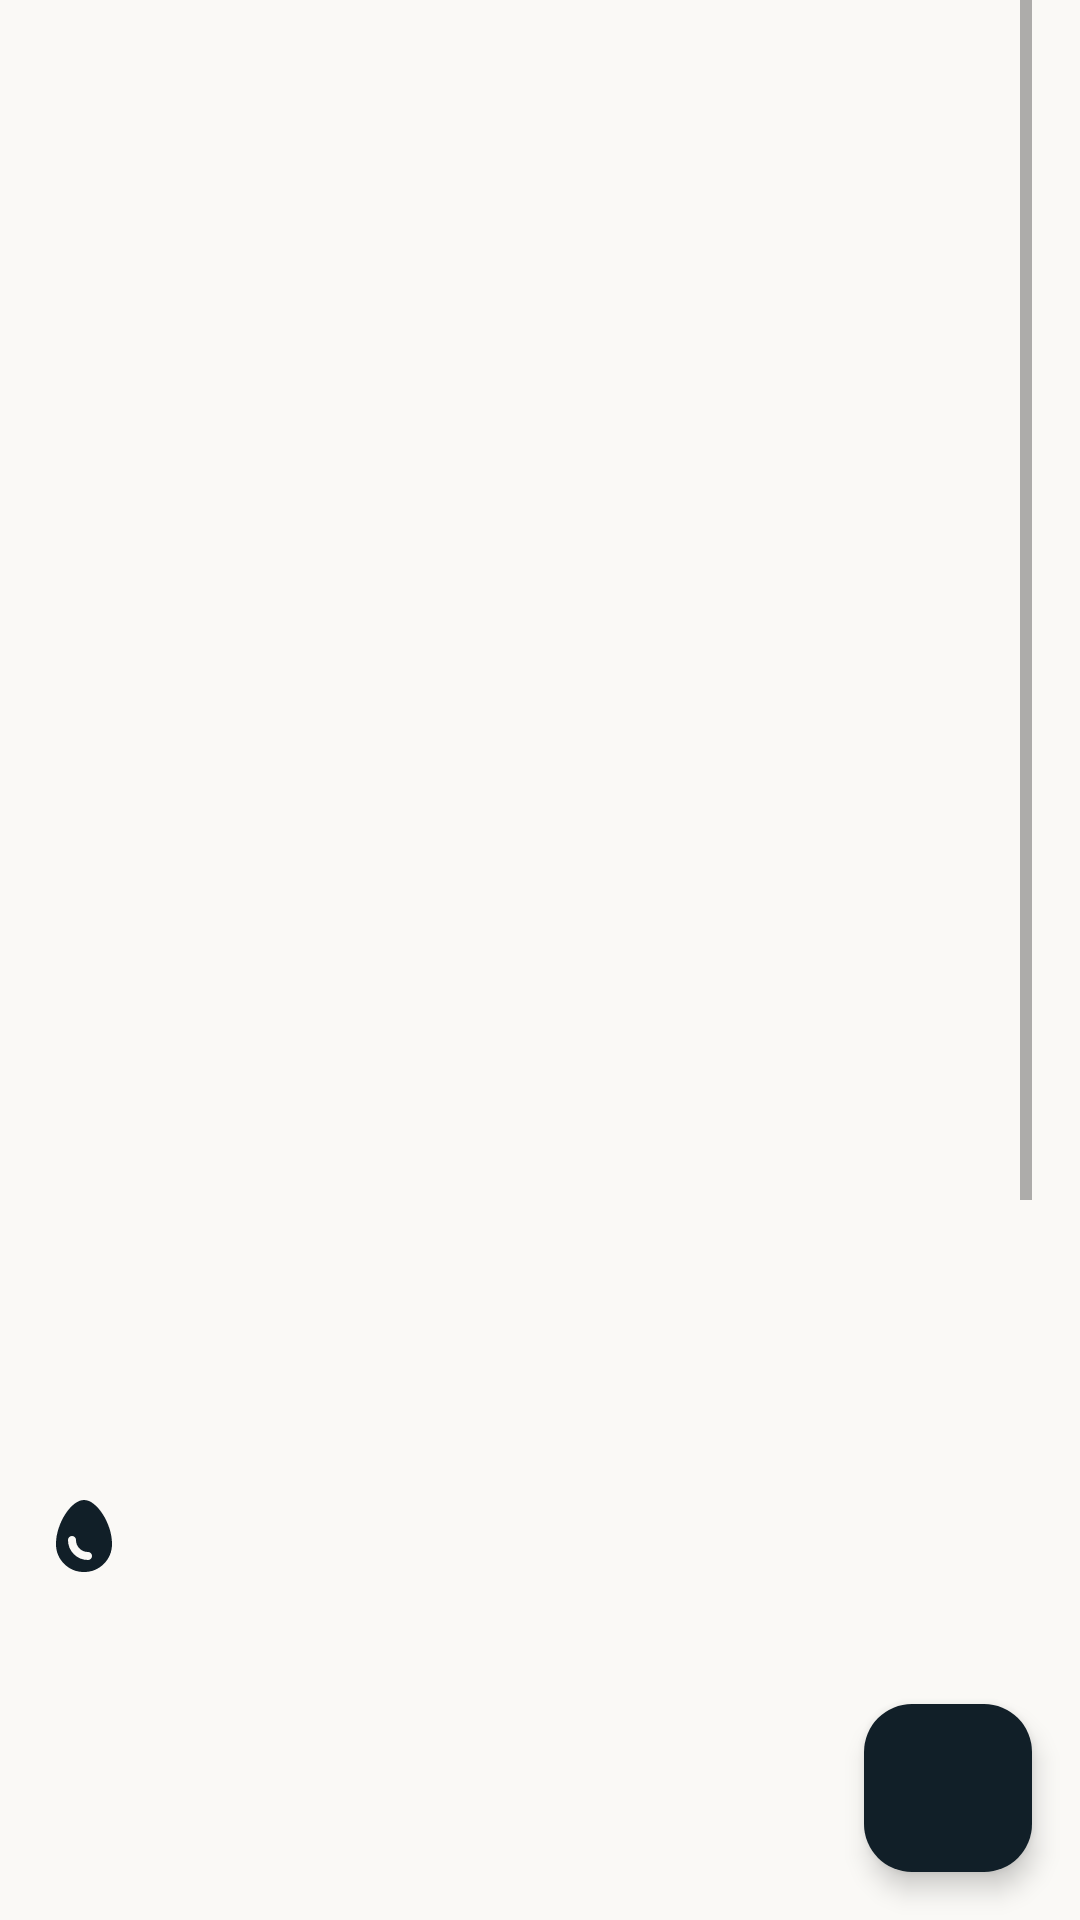

Named icons in this screenshot (1080px×1920px) and their centers, point (x, y):
agg: point (84, 1536)
